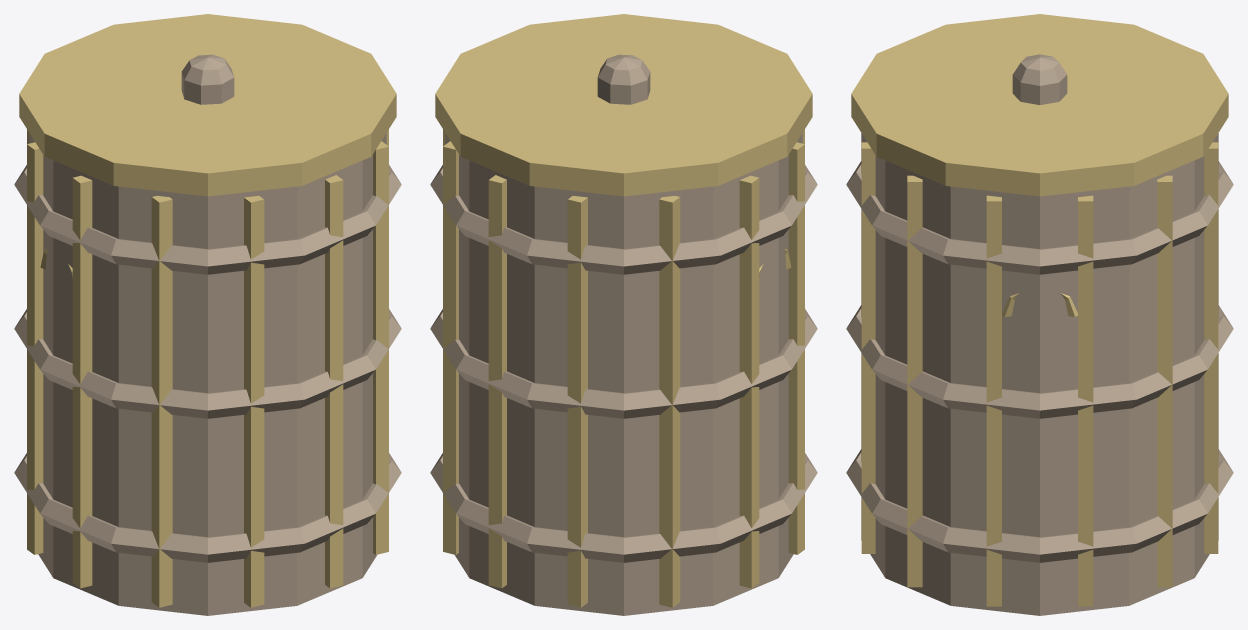
File: SM_LPI_Util_Hamper_01.fbx
The picture shows the model from 3 angles, left to right: view 1: azimuth 30°, elevation 25°; view 2: azimuth 150°, elevation 25°; view 3: azimuth 270°, elevation 25°; orthographic projection.
Visible parts, largest first — view 1: SM_LPI_Util_Hamper_01; view 2: SM_LPI_Util_Hamper_01; view 3: SM_LPI_Util_Hamper_01.
Boxes of the visible parts, x1,y1,x2,y2 form: SM_LPI_Util_Hamper_01: (14,14,401,615); SM_LPI_Util_Hamper_01: (430,14,817,615); SM_LPI_Util_Hamper_01: (846,14,1233,615).
Size of the model in its own units: 0.456 by 0.627 by 0.456.
